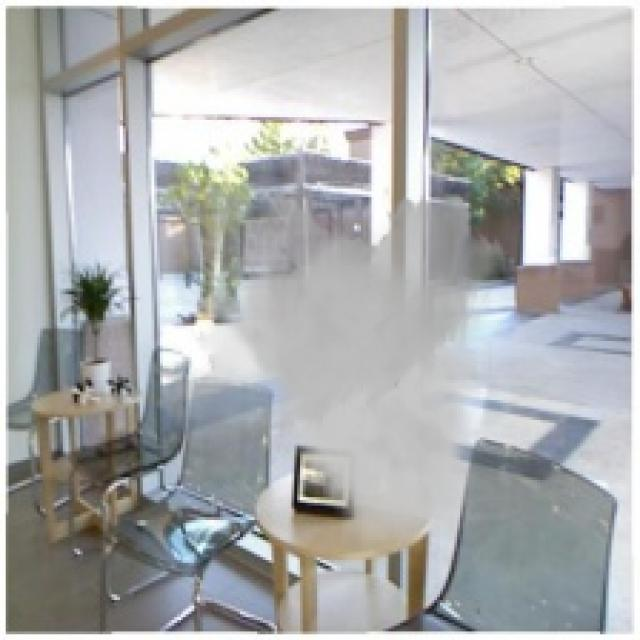smoke: (154, 183, 517, 560)
